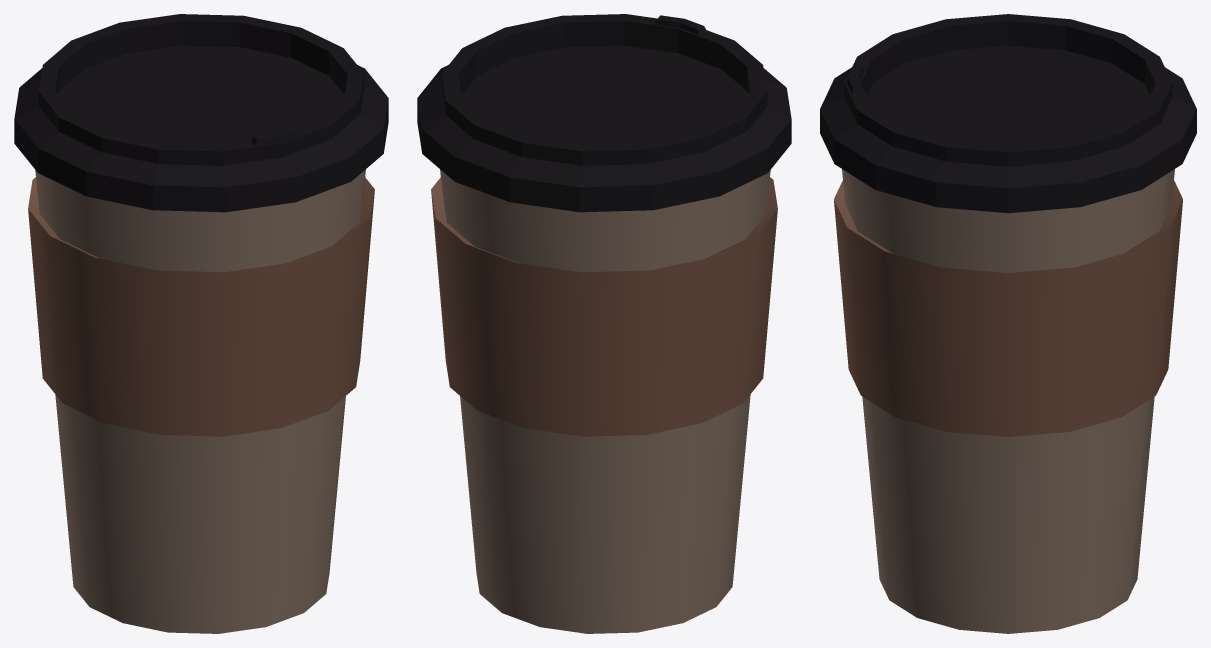
Rendered from 15d28ac3-35b9-415b-89b4-dc3e9cef98e3.glb.
3 renders of one model, left to right at view 1: azimuth 30°, elevation 25°; view 2: azimuth 150°, elevation 25°; view 3: azimuth 270°, elevation 25°, orthographic.
Visible parts, largest first — view 1: Cup, Lid; view 2: Cup, Lid; view 3: Cup, Lid.
Part boxes in pixels (left/top/right/bottom): Cup: left=28, top=169, right=374, bottom=633; Lid: left=14, top=14, right=388, bottom=212; Cup: left=431, top=169, right=777, bottom=633; Lid: left=417, top=14, right=791, bottom=212; Cup: left=834, top=169, right=1182, bottom=633; Lid: left=820, top=14, right=1196, bottom=213.
Size of what is drawn, in the model's own units: 0.1178 by 0.173 by 0.1178.
Materials: 1 (1 with a texture image).
